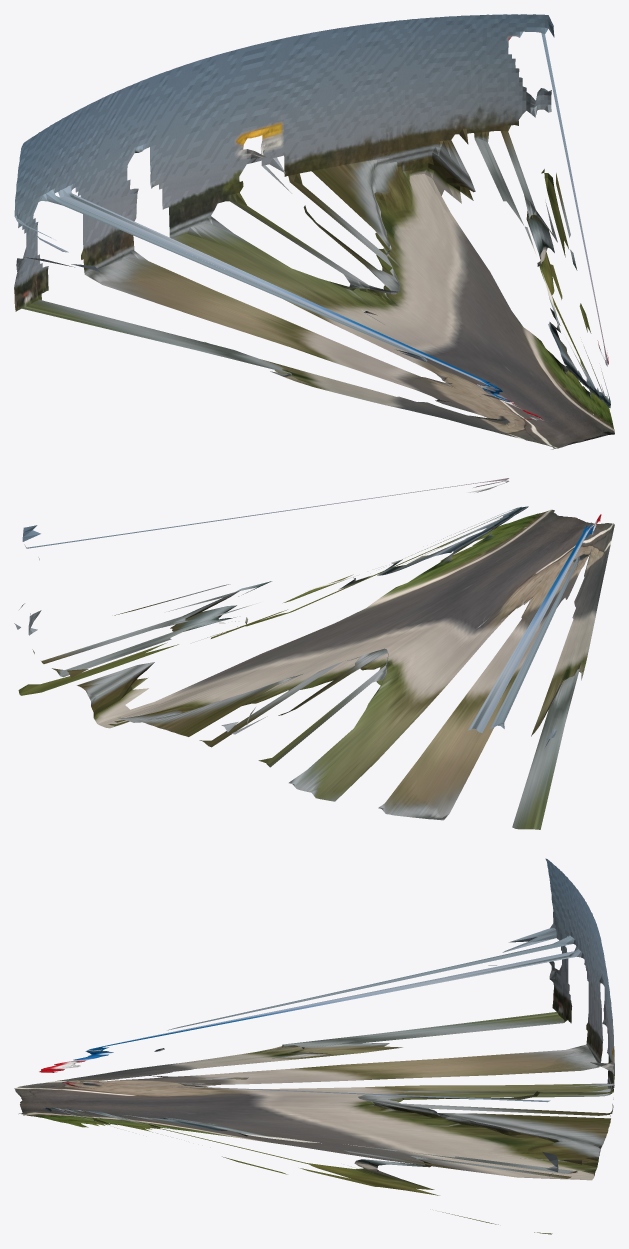
3 views of the same model, one above another, from view 1: azimuth 30°, elevation 25°; view 2: azimuth 150°, elevation 25°; view 3: azimuth 270°, elevation 25° (orthographic). The views are drawn at different scales.
Parts seen in each view (by area): view 1: defaultobject; view 2: defaultobject; view 3: defaultobject.
Part boxes in pixels (x1,y1,x2,y2): defaultobject: (14, 14, 614, 449); defaultobject: (14, 478, 614, 829); defaultobject: (14, 858, 614, 1234).
Size of the model in its own units: 41.06 by 13.36 by 44.75.
Materials: 1 (1 with a texture image).
